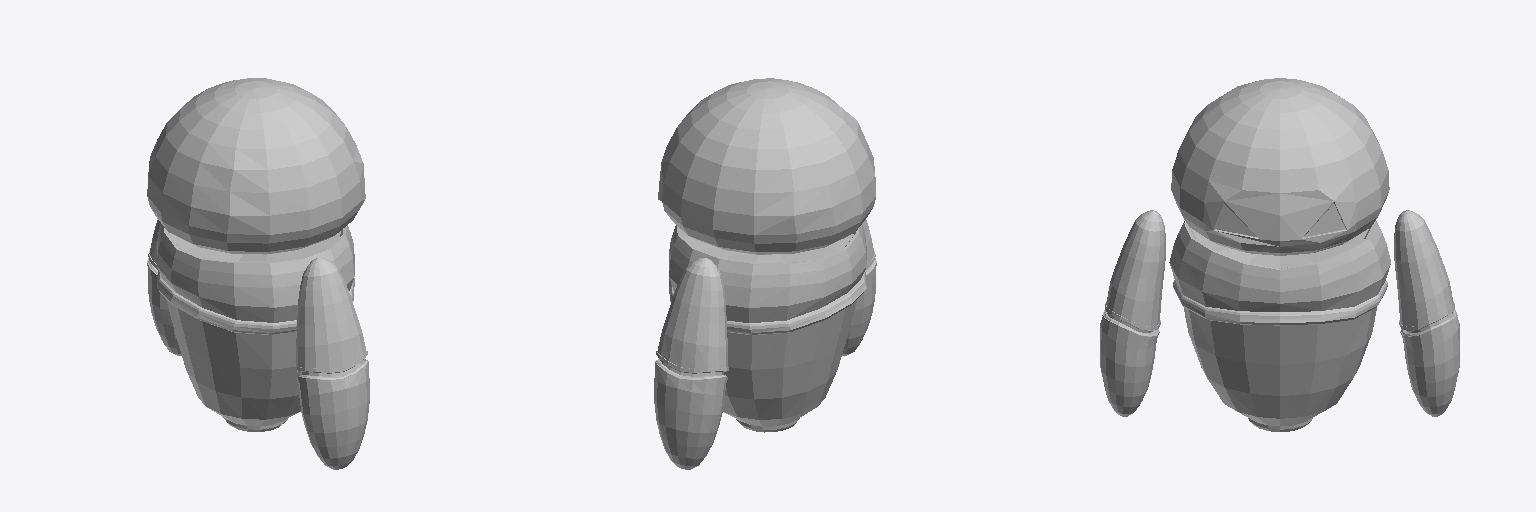
File: adept.obj
The picture shows the model from 3 angles: view 1: azimuth 30°, elevation 25°; view 2: azimuth 150°, elevation 25°; view 3: azimuth 270°, elevation 25°; orthographic projection.
Visible parts, largest first — view 1: polySurface61 polySurface16 polySurface14 polySurface1polySurfac, polySurface52, polySurface63, polySurface65; view 2: polySurface61 polySurface16 polySurface14 polySurface1polySurfac, polySurface52, polySurface65, polySurface63; view 3: polySurface52, polySurface61 polySurface16 polySurface14 polySurface1polySurfac, polySurface65, polySurface63.
Boxes of the visible parts, x1,y1,x2,y2 form: polySurface61 polySurface16 polySurface14 polySurface1polySurfac: [147, 78, 365, 254]; polySurface52: [157, 224, 354, 431]; polySurface63: [295, 258, 369, 469]; polySurface65: [147, 220, 181, 355]; polySurface61 polySurface16 polySurface14 polySurface1polySurfac: [658, 78, 875, 254]; polySurface52: [669, 224, 866, 432]; polySurface65: [654, 258, 728, 469]; polySurface63: [842, 220, 876, 355]; polySurface52: [1169, 221, 1390, 431]; polySurface61 polySurface16 polySurface14 polySurface1polySurfac: [1171, 78, 1389, 255]; polySurface65: [1394, 210, 1459, 416]; polySurface63: [1100, 210, 1165, 416].
Bounding box in the file's own units: 1.4 × 2.36 × 2.3.